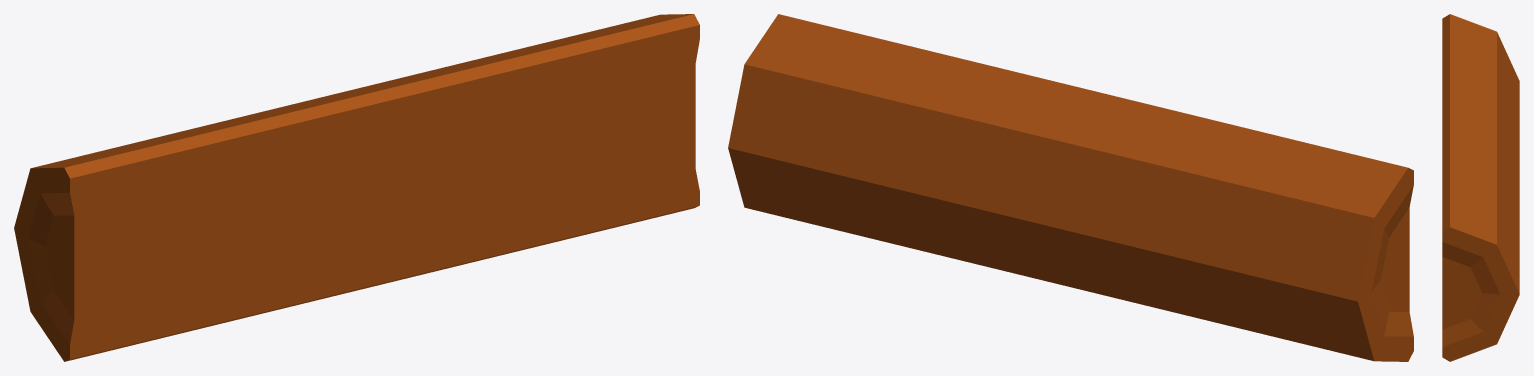
File: WoodLog_03.fbx
The picture shows the model from 3 angles, left to right: view 1: azimuth 30°, elevation 25°; view 2: azimuth 150°, elevation 25°; view 3: azimuth 270°, elevation 25°; orthographic projection. The views are drawn at different scales.
Parts seen in each view (by area): view 1: WoodLog_03; view 2: WoodLog_03; view 3: WoodLog_03.
Part boxes in pixels (bbox=[...]): WoodLog_03: bbox=[14, 14, 699, 361]; WoodLog_03: bbox=[728, 14, 1413, 361]; WoodLog_03: bbox=[1442, 14, 1519, 361].
Size of the model in its own units: 51.14 by 15.07 by 7.86.
